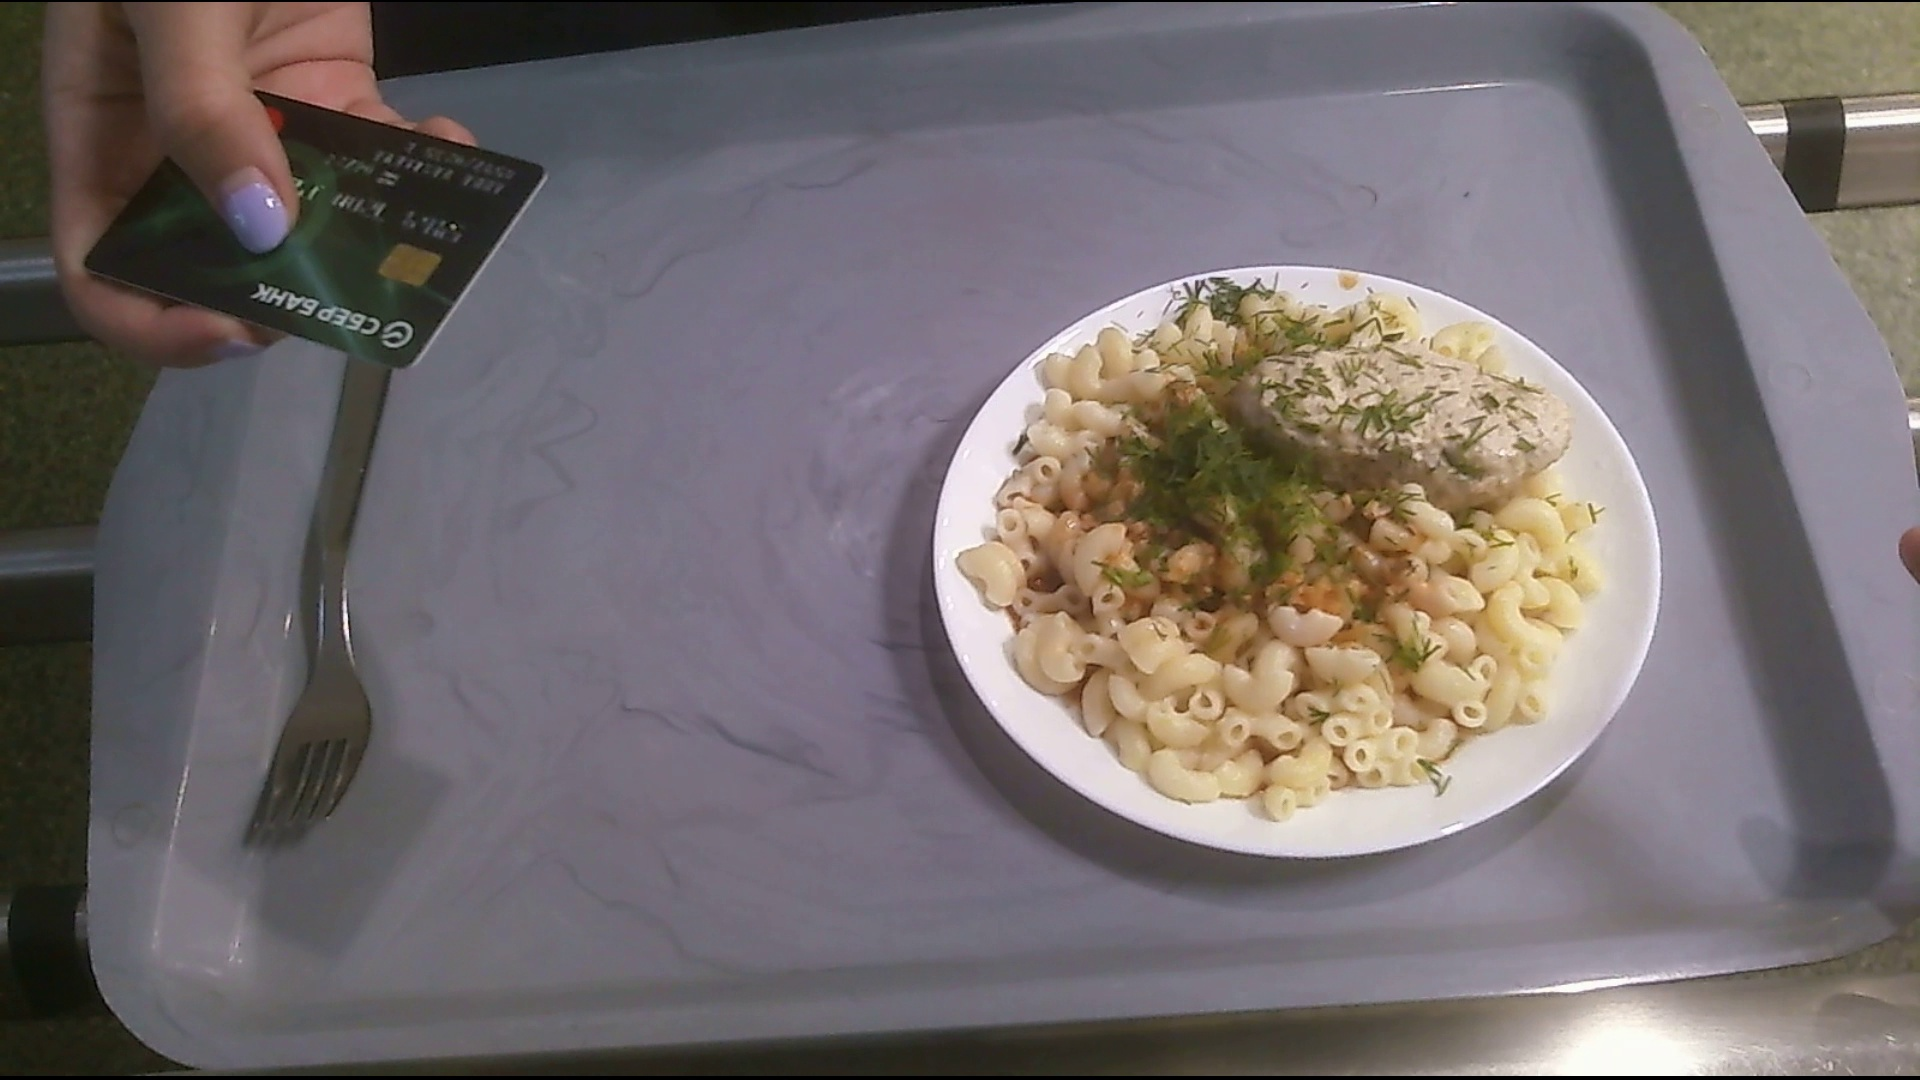cutlery: (249, 345, 393, 855)
plate: (928, 269, 1655, 855)
